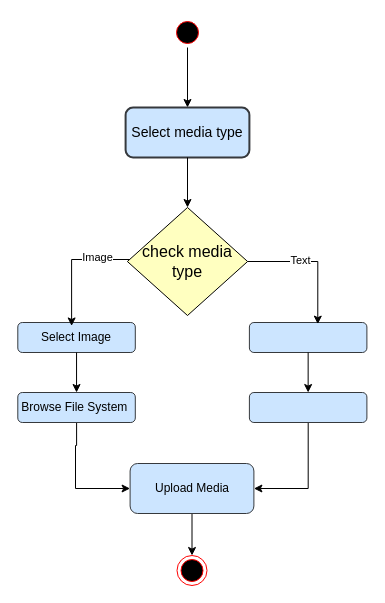
This 385x603 diagram has some shape labels left out. Here are the shapes that lost their labels. From the top down, the centre of each, then its label:
the point at 307,337: Select Text
the point at 307,407: Enter Text
